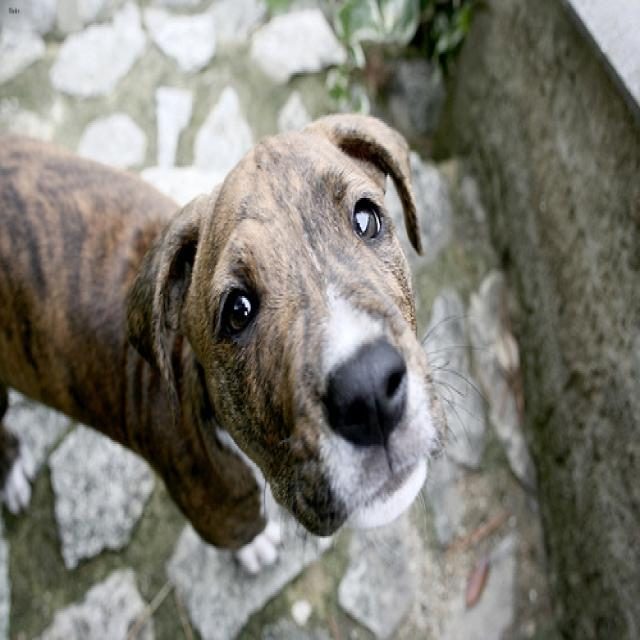dog-staffordshire_bull_terrier: (1, 102, 500, 586)
